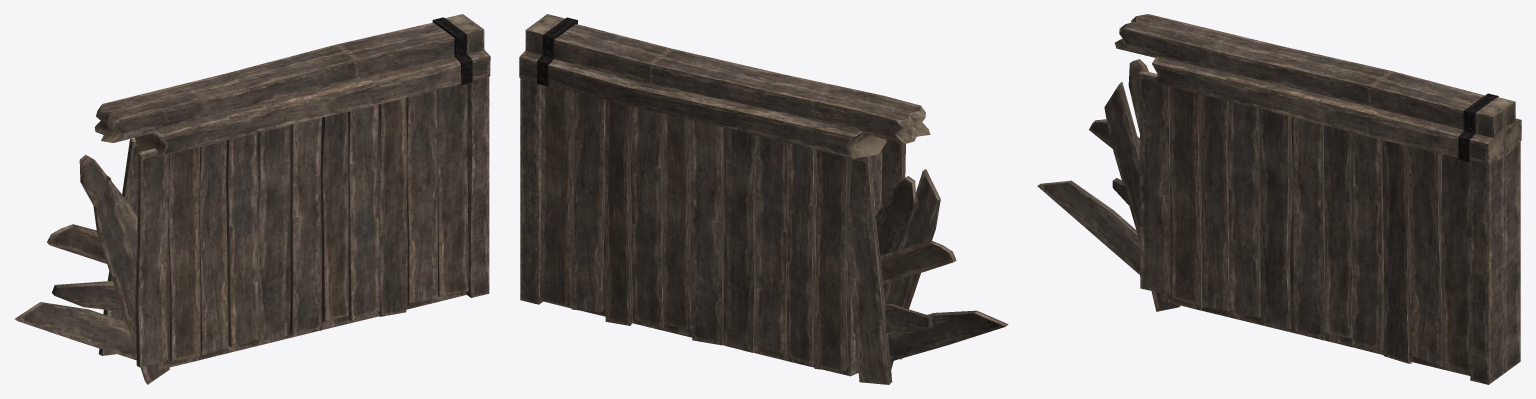
Rendered from jav_struc_def_ironwood_t2_wall_a_btmonlybrkn-transformed.glb.
The picture shows the model from 3 angles, left to right: view 1: azimuth 30°, elevation 25°; view 2: azimuth 150°, elevation 25°; view 3: azimuth 330°, elevation 25°; orthographic projection. The views are drawn at different scales.
Parts seen in each view (by area): view 1: default; view 2: default; view 3: default.
Boxes of the visible parts, x1,y1,x2,y2 form: default: [15, 14, 490, 384]; default: [519, 14, 1008, 384]; default: [1037, 14, 1521, 384].
Bounding box in the file's own units: 8.19 × 4.72 × 1.17.
Materials: 1 (1 with a texture image).
